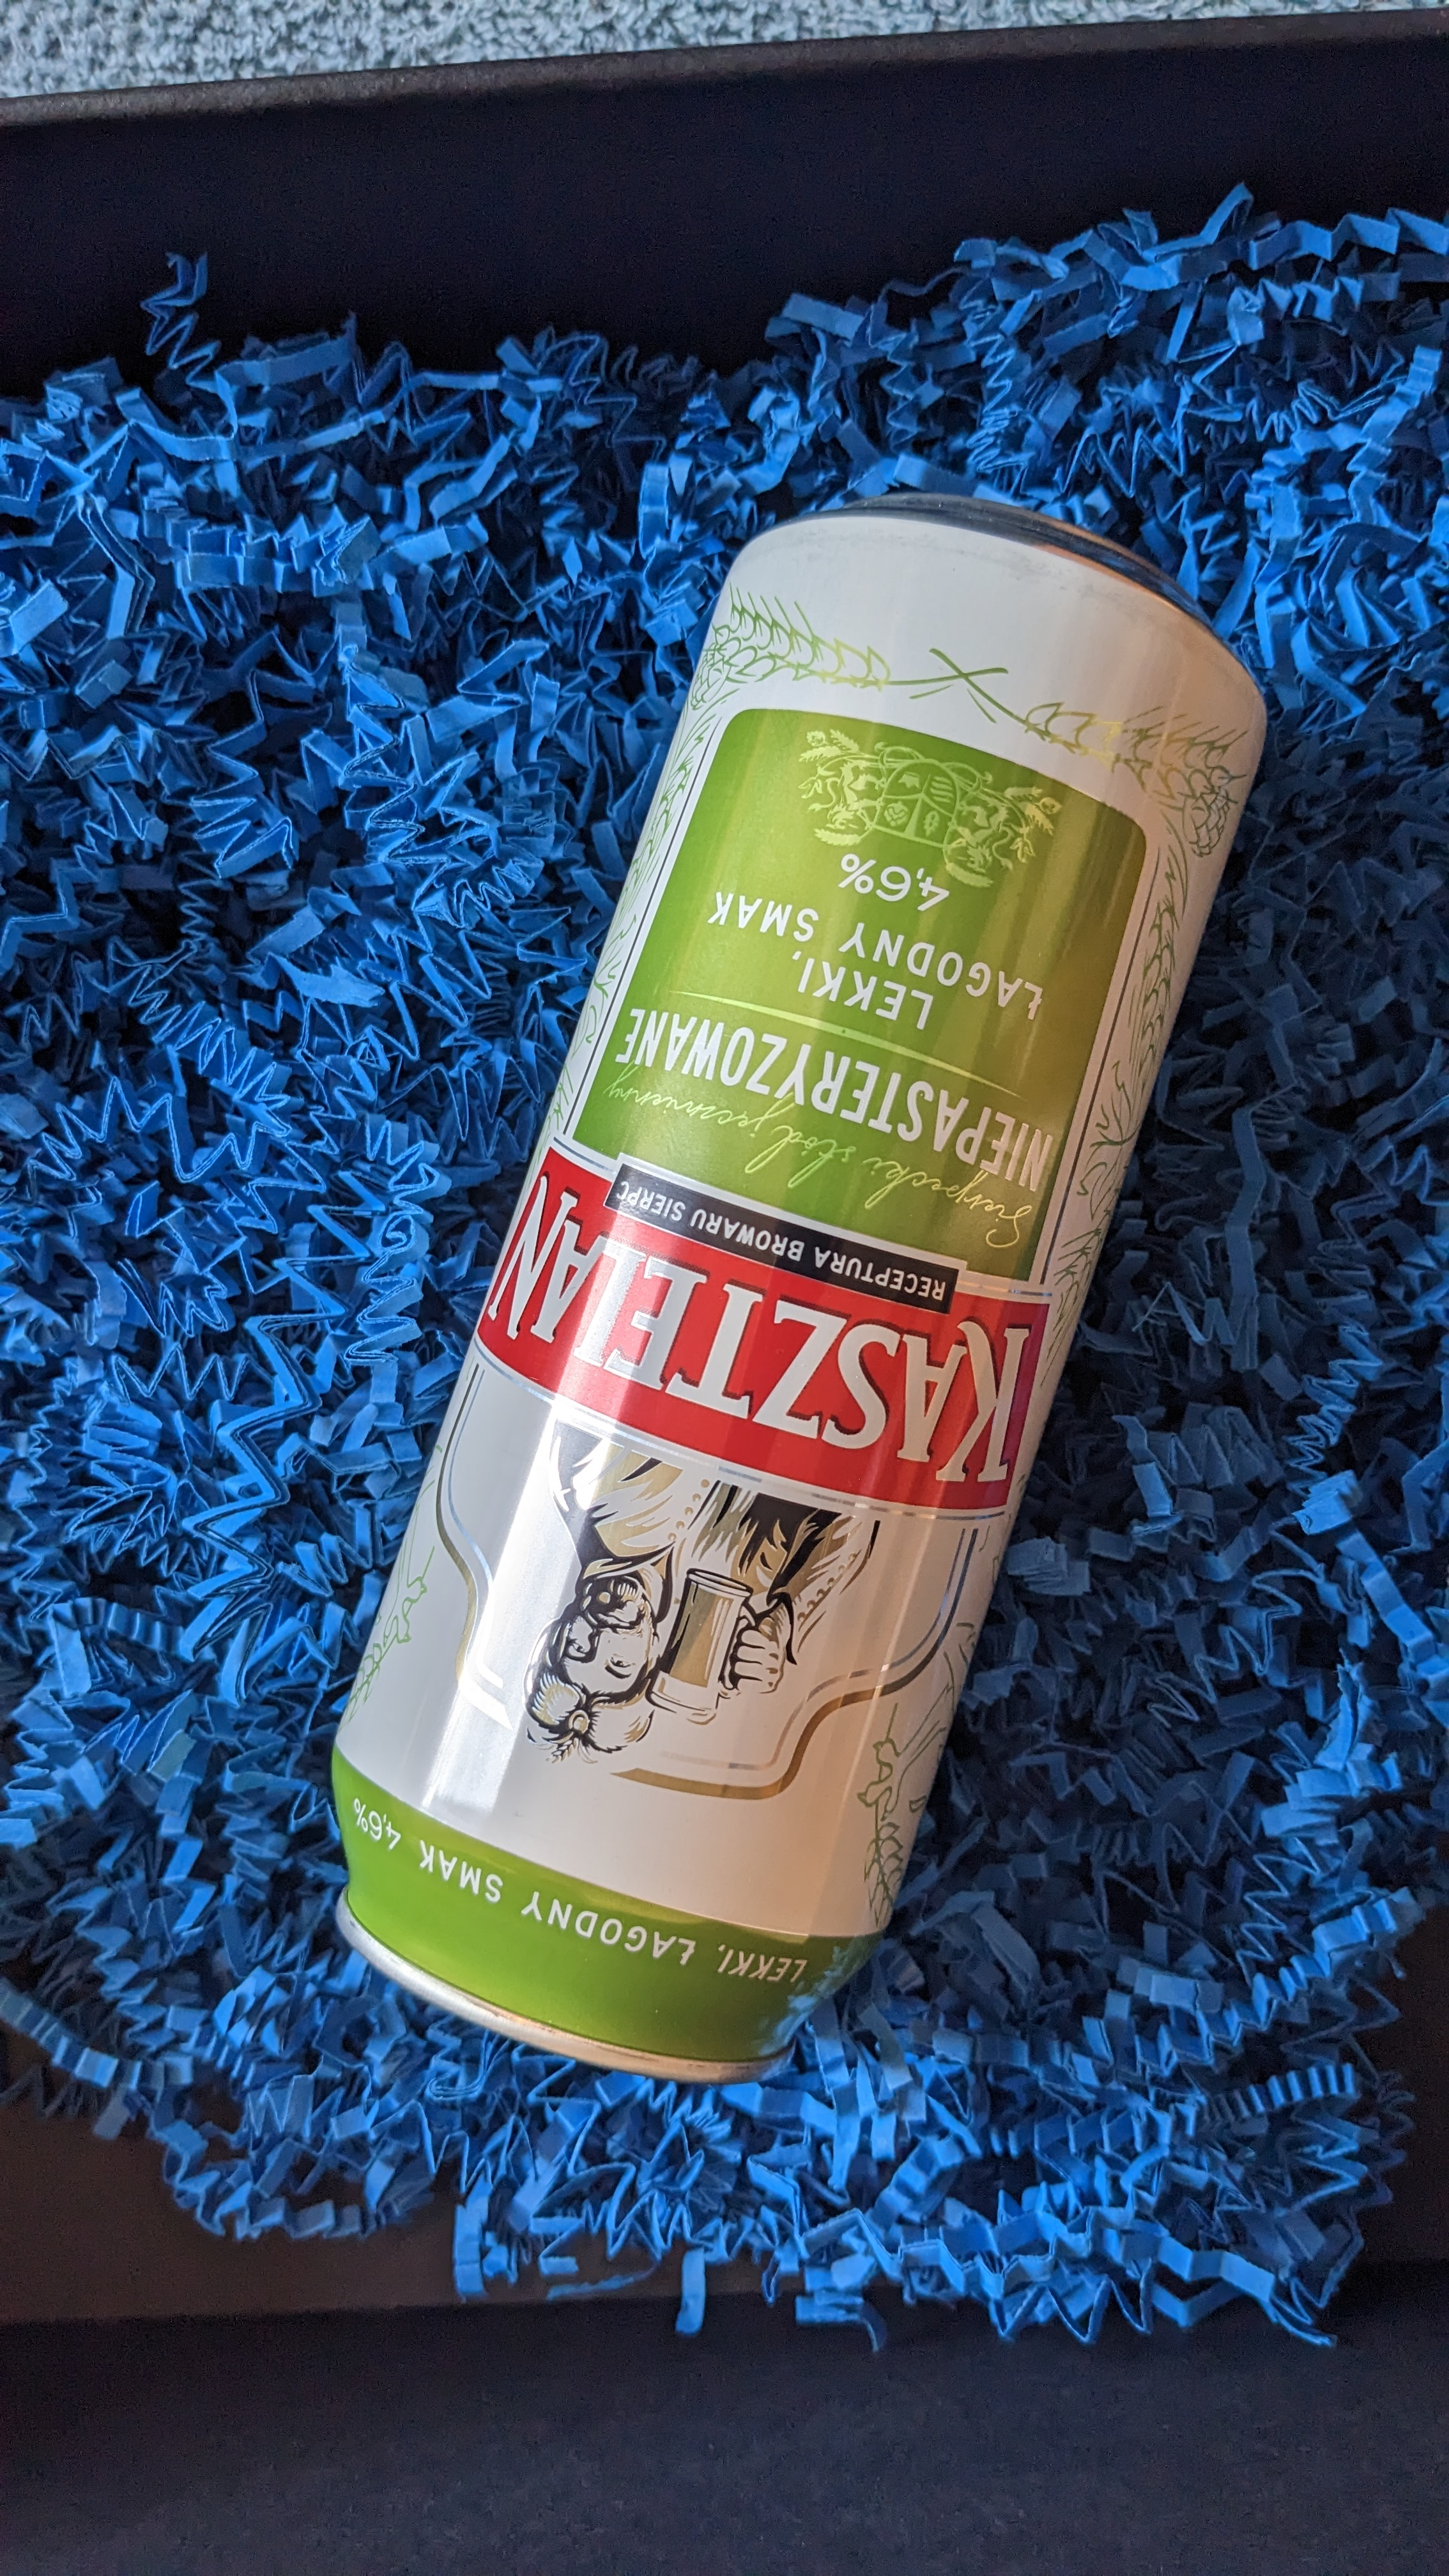kasztelan: (341, 485, 1265, 2079)
